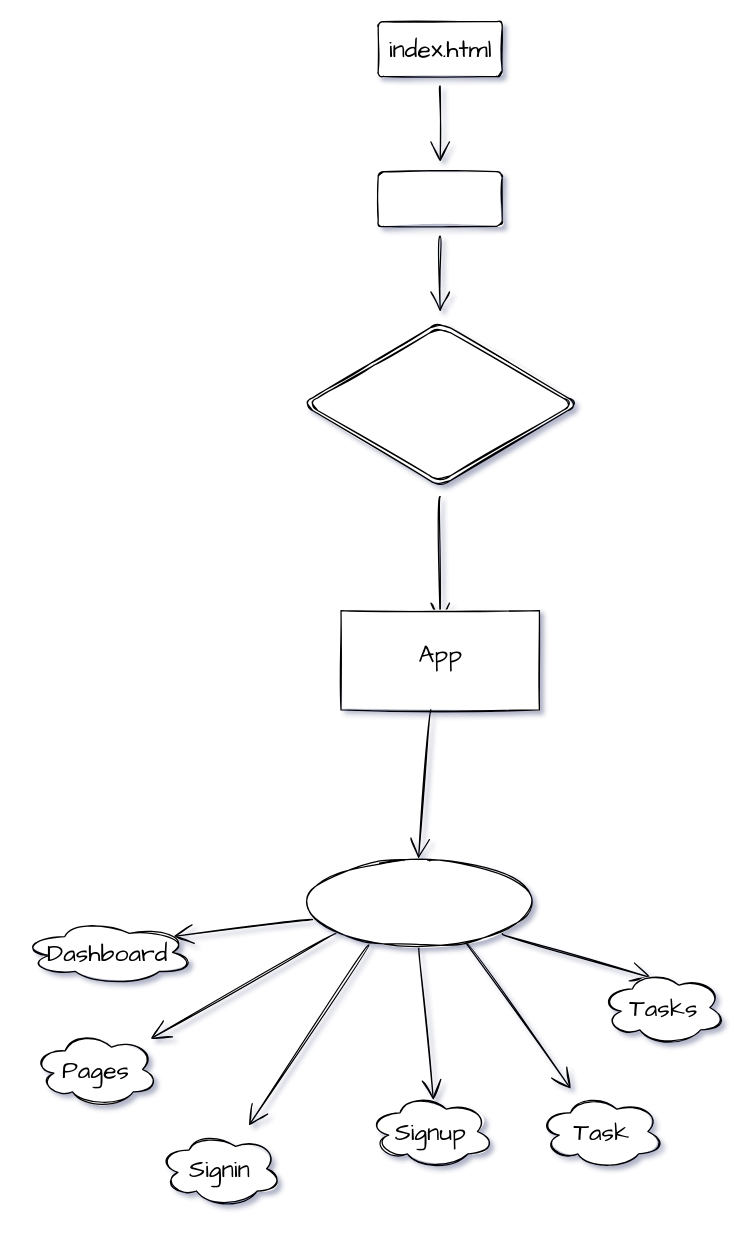
Image size: 755x1235. Some labels were removed from this diagram. Each missing label, with the centre of its shape:
BrowsserRouter: [439,404]
Components: [418,902]
index.js: [439,198]
